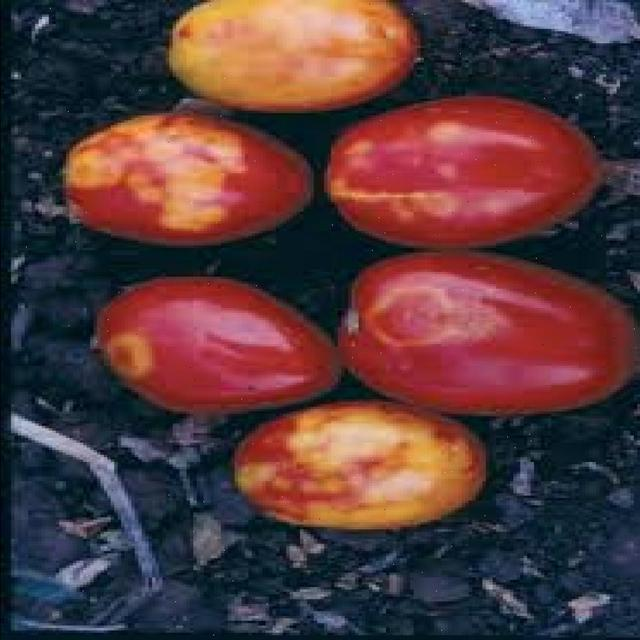Spotted wilt Virus Fruit: (94, 0, 427, 353)
